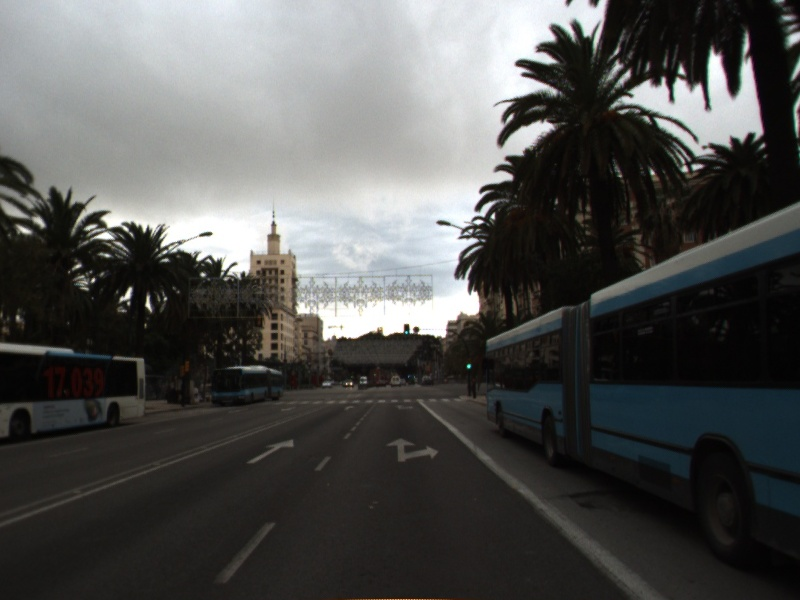STRAIGHT: (244, 437, 296, 465), (342, 403, 357, 412)
STRAIGHT_RIGHT: (383, 436, 442, 464), (393, 403, 415, 411)
